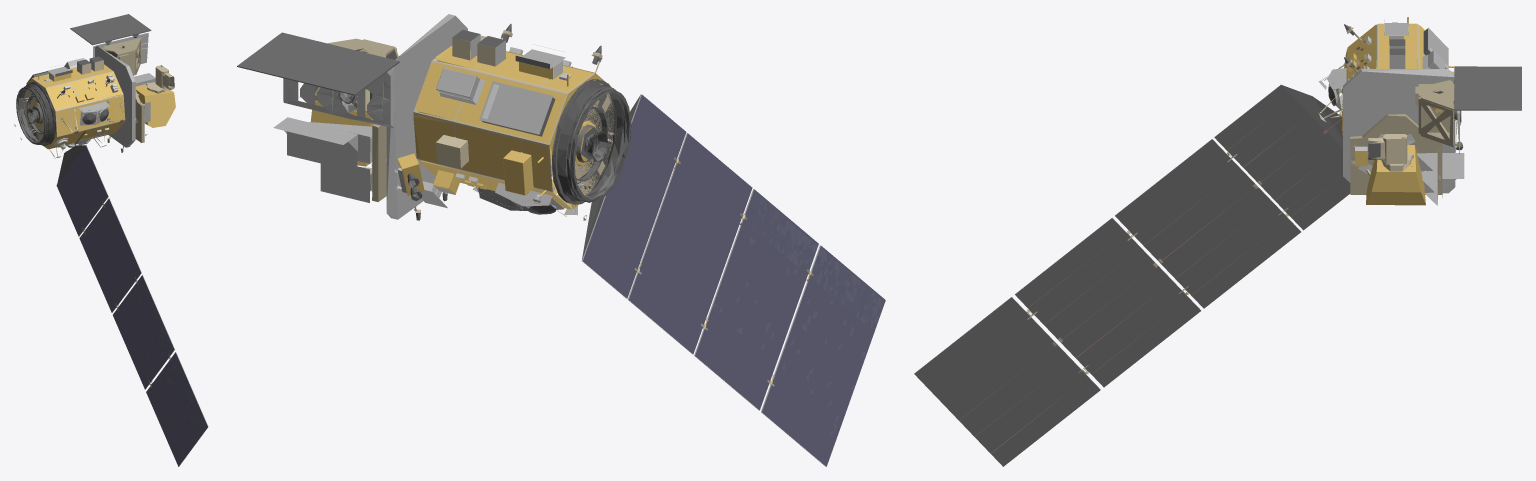
The model's file is landsat8.glb.
3 views of the same model, side by side, from view 1: azimuth 30°, elevation 25°; view 2: azimuth 150°, elevation 25°; view 3: azimuth 270°, elevation 25° (orthographic). The views are drawn at different scales.
Visible parts, largest first — view 1: Layer_0; view 2: Layer_0; view 3: Layer_0.
Part boxes in pixels (bbox=[...]): Layer_0: bbox=[14, 14, 208, 466]; Layer_0: bbox=[237, 14, 885, 466]; Layer_0: bbox=[914, 17, 1521, 466].
Bounding box in the file's own units: 4.97 × 9.99 × 12.21.
